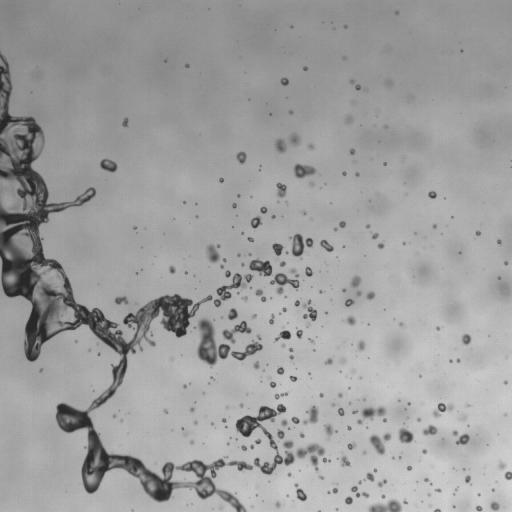droplet: (288, 233, 313, 259), (368, 431, 392, 455), (205, 243, 226, 263), (301, 405, 319, 425), (398, 422, 415, 443), (293, 163, 316, 178), (323, 423, 338, 440), (336, 451, 351, 467), (100, 158, 117, 172), (319, 239, 333, 252), (274, 138, 286, 153), (422, 424, 438, 435), (275, 182, 286, 197), (288, 133, 300, 146), (250, 215, 262, 228), (456, 433, 469, 445), (342, 315, 356, 326), (227, 308, 238, 320), (236, 151, 246, 164), (356, 339, 366, 352), (460, 334, 471, 345), (7, 67, 18, 78), (284, 174, 295, 185), (9, 178, 20, 189), (74, 185, 85, 196), (281, 239, 292, 250), (197, 250, 208, 261), (280, 250, 291, 261), (268, 255, 279, 266), (298, 275, 309, 286), (358, 281, 369, 292), (238, 284, 249, 295), (73, 293, 84, 304), (139, 294, 150, 305), (272, 295, 283, 306), (354, 295, 365, 306), (221, 299, 232, 310), (21, 301, 32, 312), (264, 301, 275, 312), (118, 304, 129, 315), (111, 312, 122, 323), (187, 315, 198, 326), (295, 317, 306, 328), (224, 319, 235, 330), (78, 323, 89, 334), (271, 323, 282, 334), (191, 329, 202, 340), (16, 330, 27, 341), (121, 330, 132, 341), (213, 333, 224, 344), (240, 333, 251, 344), (40, 340, 51, 351), (233, 341, 244, 352), (15, 344, 26, 355), (110, 352, 121, 363), (102, 374, 113, 385), (276, 374, 287, 385), (96, 383, 107, 394), (324, 390, 335, 401), (74, 400, 85, 411), (452, 400, 463, 411), (407, 406, 418, 417), (343, 412, 354, 423), (423, 414, 434, 425), (330, 416, 341, 427), (313, 419, 324, 430), (303, 422, 314, 433), (410, 425, 421, 436), (251, 427, 262, 438), (343, 431, 354, 442), (315, 435, 326, 446), (293, 438, 304, 449), (253, 445, 264, 456), (235, 450, 246, 461), (116, 467, 127, 478), (129, 476, 140, 487), (212, 476, 223, 487), (360, 480, 371, 491), (209, 493, 220, 504), (369, 494, 380, 505), (360, 497, 371, 508), (455, 412, 467, 421), (295, 326, 303, 339), (490, 501, 500, 511), (366, 290, 375, 300), (377, 478, 387, 487), (498, 459, 506, 470), (344, 115, 353, 124), (278, 306, 287, 315), (347, 441, 356, 450), (8, 108, 17, 117), (299, 136, 308, 145), (284, 141, 293, 150), (29, 160, 38, 169), (259, 213, 268, 222), (37, 222, 46, 231), (245, 226, 254, 235), (216, 247, 225, 256), (42, 249, 51, 258), (271, 264, 280, 273), (240, 266, 249, 275), (297, 273, 306, 282), (346, 288, 355, 297), (15, 294, 24, 303), (345, 306, 354, 315), (117, 322, 126, 331), (101, 343, 110, 352), (341, 363, 350, 372), (272, 373, 281, 382), (336, 398, 345, 407), (274, 412, 283, 421), (372, 413, 381, 422), (430, 417, 439, 426), (227, 418, 236, 427), (261, 418, 270, 427), (92, 422, 101, 431), (79, 426, 88, 435), (390, 431, 399, 440), (244, 435, 253, 444), (274, 437, 283, 446), (381, 439, 390, 448), (366, 443, 375, 452), (129, 449, 138, 458), (344, 449, 353, 458), (203, 456, 212, 465), (276, 462, 285, 471), (373, 472, 382, 481), (489, 492, 498, 501), (146, 496, 155, 505), (305, 266, 313, 276), (344, 298, 354, 306), (280, 77, 289, 85), (384, 79, 393, 87), (428, 190, 436, 199), (338, 356, 346, 365), (337, 407, 345, 416), (279, 418, 288, 426), (344, 496, 353, 504), (274, 500, 283, 508), (465, 475, 472, 485), (224, 505, 235, 511), (341, 505, 352, 511), (399, 505, 410, 511), (370, 231, 378, 239), (324, 357, 332, 365), (276, 366, 284, 374), (291, 416, 299, 424), (377, 240, 384, 249), (168, 265, 175, 274), (289, 375, 298, 382), (504, 471, 511, 480), (122, 117, 128, 127), (240, 444, 248, 451), (253, 360, 259, 369), (307, 143, 314, 150), (260, 206, 267, 213), (224, 270, 231, 277), (398, 321, 405, 328), (7, 65, 14, 72), (34, 117, 41, 124), (296, 129, 303, 136), (283, 138, 290, 145), (270, 146, 277, 153), (299, 159, 306, 166), (288, 168, 295, 175), (102, 169, 109, 176), (346, 170, 353, 177), (41, 174, 48, 181), (303, 174, 310, 181), (45, 183, 52, 190), (429, 184, 436, 191), (68, 194, 75, 201), (370, 225, 377, 232), (375, 236, 382, 243), (312, 239, 319, 246), (278, 253, 285, 260), (279, 266, 286, 273), (298, 268, 305, 275), (251, 269, 258, 276), (286, 272, 293, 279), (225, 277, 232, 284), (343, 281, 350, 288), (283, 282, 290, 289), (229, 287, 236, 294), (179, 291, 186, 298), (152, 292, 159, 299), (212, 292, 219, 299), (287, 303, 294, 310), (315, 311, 322, 318), (103, 312, 110, 319), (352, 312, 359, 319), (354, 315, 361, 322), (233, 317, 240, 324), (353, 321, 360, 328), (289, 329, 296, 336), (168, 330, 175, 337), (232, 331, 239, 338), (139, 338, 146, 345), (229, 344, 236, 351), (360, 349, 367, 356), (125, 351, 132, 358), (19, 352, 26, 359), (201, 360, 208, 367), (282, 370, 289, 377), (115, 386, 122, 393), (273, 386, 280, 393), (341, 388, 348, 395), (92, 391, 99, 398), (277, 397, 284, 404), (363, 401, 370, 408), (270, 402, 277, 409), (371, 402, 378, 409), (50, 407, 57, 414), (343, 407, 350, 414), (463, 407, 470, 414), (250, 410, 257, 417), (87, 411, 94, 418), (355, 411, 362, 418), (189, 412, 196, 419), (303, 412, 310, 419), (316, 412, 323, 419), (363, 416, 370, 423), (50, 418, 57, 425), (286, 419, 293, 426), (406, 425, 413, 432), (319, 428, 326, 435), (59, 429, 66, 436), (366, 429, 373, 436), (376, 431, 383, 438), (271, 433, 278, 440), (283, 433, 290, 440), (261, 435, 268, 442), (318, 440, 325, 447), (401, 441, 408, 448), (289, 446, 296, 453), (105, 447, 112, 454), (81, 448, 88, 455), (118, 448, 125, 455), (304, 452, 311, 459), (293, 456, 300, 463), (246, 458, 253, 465), (173, 459, 180, 466), (252, 465, 259, 472), (215, 467, 222, 474), (103, 470, 110, 477), (157, 471, 164, 478), (75, 472, 82, 479), (288, 476, 295, 483), (136, 484, 143, 491), (427, 485, 434, 492), (170, 488, 177, 495), (189, 488, 196, 495), (290, 491, 297, 498), (348, 491, 355, 498), (211, 492, 218, 499), (277, 494, 284, 501), (396, 496, 403, 503), (423, 496, 430, 503), (238, 497, 245, 504), (381, 498, 388, 505), (160, 499, 167, 506), (497, 499, 504, 506), (218, 503, 224, 511), (244, 506, 253, 511), (482, 506, 491, 511), (349, 148, 355, 155), (339, 221, 345, 228), (250, 313, 257, 319), (305, 320, 311, 327), (452, 429, 458, 436), (475, 505, 482, 511), (291, 499, 296, 507), (355, 84, 361, 90), (308, 181, 314, 187), (475, 230, 481, 236), (241, 296, 247, 302), (255, 334, 261, 340), (299, 431, 305, 437), (0, 176, 4, 185), (247, 237, 254, 242), (496, 238, 501, 245), (330, 402, 337, 407), (189, 438, 194, 445), (349, 79, 355, 84), (301, 209, 306, 215), (288, 347, 294, 352), (169, 356, 175, 361), (337, 392, 342, 398), (238, 402, 243, 408), (163, 408, 168, 414), (192, 420, 198, 425), (422, 448, 427, 454), (406, 465, 412, 470), (286, 472, 292, 477), (318, 289, 325, 293), (464, 403, 471, 407), (347, 424, 351, 431), (434, 488, 441, 492), (507, 377, 511, 384), (507, 465, 511, 472), (229, 507, 236, 511), (273, 507, 280, 511), (394, 10, 399, 15), (280, 342, 285, 347), (289, 355, 294, 360), (189, 407, 194, 412), (416, 417, 421, 422), (424, 477, 429, 482), (1, 51, 6, 56), (6, 58, 11, 63), (354, 79, 359, 84), (10, 80, 15, 85), (359, 82, 364, 87), (350, 83, 355, 88), (282, 84, 287, 89), (8, 95, 13, 100), (118, 117, 123, 122), (43, 141, 48, 146), (349, 143, 354, 148), (241, 147, 246, 152), (234, 148, 239, 153), (354, 149, 359, 154), (231, 153, 236, 158), (349, 154, 354, 159), (110, 156, 115, 161), (244, 157, 249, 162), (234, 159, 239, 164), (95, 162, 100, 167), (115, 166, 120, 171), (111, 170, 116, 175), (280, 179, 285, 184), (273, 186, 278, 191), (285, 186, 290, 191), (427, 186, 432, 191), (94, 187, 99, 192), (94, 191, 99, 196), (15, 194, 20, 199), (278, 196, 283, 201), (89, 197, 94, 202), (45, 198, 50, 203), (234, 198, 239, 203), (82, 201, 87, 206), (57, 210, 62, 215), (265, 210, 270, 215), (47, 212, 52, 217), (338, 216, 343, 221), (334, 222, 339, 227), (344, 223, 349, 228), (247, 224, 252, 229), (256, 224, 261, 229), (337, 226, 342, 231), (289, 231, 294, 236), (475, 235, 480, 240), (40, 239, 45, 244), (276, 239, 281, 244), (327, 239, 332, 244), (383, 242, 388, 247), (320, 247, 325, 252), (376, 247, 381, 252), (380, 247, 385, 252), (280, 248, 285, 253), (287, 249, 292, 254), (328, 250, 333, 255), (250, 255, 255, 260), (294, 255, 299, 260), (260, 257, 265, 262), (56, 258, 61, 263), (217, 258, 222, 263), (268, 260, 273, 265), (244, 262, 249, 267), (174, 266, 179, 271), (164, 267, 169, 272), (220, 268, 225, 273), (356, 271, 361, 276), (229, 272, 234, 277), (269, 274, 274, 279), (68, 278, 73, 283), (248, 280, 253, 285), (217, 282, 222, 287), (273, 282, 278, 287), (250, 288, 255, 293), (373, 289, 378, 294), (168, 291, 173, 296), (261, 291, 266, 296), (361, 291, 366, 296), (118, 292, 123, 297), (202, 292, 207, 297), (110, 295, 115, 300), (255, 295, 260, 300), (126, 296, 131, 301), (265, 297, 270, 302), (370, 297, 375, 302), (191, 299, 196, 304), (208, 299, 213, 304), (298, 299, 303, 304), (119, 301, 124, 306), (112, 302, 117, 307), (138, 302, 143, 307), (198, 303, 203, 308), (87, 306, 92, 311), (235, 308, 240, 313), (131, 309, 136, 314), (122, 311, 127, 316), (273, 312, 278, 317), (223, 314, 228, 319), (342, 314, 347, 319), (187, 316, 192, 321), (306, 316, 311, 321), (400, 317, 405, 322), (394, 318, 399, 323), (310, 320, 315, 325), (246, 322, 251, 327), (344, 322, 349, 327), (185, 325, 190, 330), (283, 325, 288, 330), (65, 329, 70, 334), (59, 330, 64, 335), (466, 330, 471, 335), (145, 331, 150, 336), (242, 331, 247, 336), (180, 334, 185, 339), (457, 335, 462, 340), (150, 336, 155, 341), (253, 337, 258, 342), (279, 337, 284, 342), (469, 338, 474, 343), (224, 339, 229, 344), (257, 339, 262, 344), (309, 343, 314, 348), (352, 343, 357, 348), (133, 344, 138, 349), (363, 344, 368, 349), (283, 346, 288, 351), (240, 347, 245, 352), (255, 349, 260, 354), (226, 352, 231, 357), (37, 353, 42, 358), (245, 354, 250, 359), (322, 356, 327, 361), (451, 356, 456, 361), (232, 357, 237, 362), (331, 358, 336, 363), (25, 359, 30, 364), (32, 359, 37, 364), (29, 360, 34, 365), (258, 362, 263, 367), (325, 363, 330, 368), (338, 364, 343, 369), (125, 366, 130, 371), (256, 367, 261, 372), (261, 371, 266, 376), (352, 373, 357, 378), (265, 379, 270, 384), (337, 387, 342, 392), (332, 392, 337, 397), (111, 393, 116, 398), (341, 394, 346, 399), (106, 397, 111, 402), (261, 401, 266, 406), (282, 401, 287, 406), (190, 402, 195, 407), (99, 403, 104, 408), (305, 405, 310, 410), (193, 408, 198, 413), (443, 409, 448, 414), (383, 413, 388, 418), (236, 414, 241, 419), (114, 416, 119, 421), (298, 416, 303, 421), (219, 421, 224, 426), (297, 421, 302, 426), (306, 421, 311, 426), (192, 424, 197, 429), (279, 425, 284, 430), (331, 425, 336, 430), (451, 425, 456, 430), (447, 430, 452, 435), (236, 431, 241, 436), (457, 431, 462, 436), (331, 432, 336, 437), (426, 433, 431, 438), (185, 435, 190, 440), (454, 435, 459, 440), (468, 435, 473, 440), (229, 438, 234, 443), (408, 440, 413, 445), (466, 440, 471, 445), (457, 442, 462, 447), (245, 443, 250, 448), (253, 443, 258, 448), (423, 444, 428, 449), (426, 448, 431, 453), (322, 452, 327, 457), (281, 453, 286, 458), (337, 453, 342, 458), (195, 455, 200, 460), (317, 455, 322, 460), (188, 456, 193, 461), (212, 456, 217, 461), (346, 456, 351, 461), (165, 457, 170, 462), (501, 457, 506, 462), (223, 458, 228, 463), (268, 459, 273, 464), (336, 459, 341, 464), (258, 460, 263, 465), (494, 460, 499, 465), (159, 461, 164, 466), (288, 462, 293, 467), (275, 463, 280, 468), (232, 464, 237, 469), (309, 464, 314, 469), (343, 465, 348, 470), (502, 467, 507, 472), (271, 469, 276, 474), (462, 471, 467, 476), (372, 472, 377, 477), (263, 473, 268, 478), (361, 473, 366, 478), (460, 475, 465, 480), (500, 475, 505, 480), (211, 477, 216, 482), (418, 477, 423, 482), (365, 478, 370, 483), (353, 481, 358, 486), (381, 483, 386, 488), (433, 483, 438, 488), (79, 484, 84, 489), (336, 485, 341, 490), (291, 486, 296, 491), (356, 487, 361, 492), (302, 488, 307, 493), (364, 488, 369, 493), (229, 489, 234, 494), (92, 490, 97, 495), (359, 494, 364, 499), (196, 496, 201, 501), (205, 496, 210, 501), (305, 496, 310, 501), (340, 499, 345, 504), (270, 503, 275, 508), (346, 503, 351, 508), (279, 504, 284, 509), (432, 504, 437, 509), (302, 66, 308, 70), (219, 177, 223, 183), (232, 202, 236, 208), (220, 263, 224, 269), (0, 285, 3, 292), (342, 56, 347, 60), (184, 63, 189, 67), (288, 110, 293, 114), (383, 124, 388, 128), (271, 214, 275, 219), (365, 224, 370, 228), (432, 224, 437, 228), (436, 326, 440, 331), (456, 358, 460, 363), (503, 380, 507, 385), (343, 24, 347, 28), (342, 171, 346, 175), (355, 172, 359, 176), (133, 225, 137, 229), (333, 227, 337, 231), (402, 241, 406, 245), (247, 252, 251, 256), (504, 261, 508, 265), (342, 288, 346, 292), (134, 302, 138, 306), (449, 359, 453, 363), (39, 368, 43, 372), (307, 372, 311, 376), (418, 374, 422, 378), (319, 393, 323, 397), (112, 414, 116, 418), (362, 450, 366, 454), (381, 494, 385, 498), (428, 503, 432, 507), (241, 262, 244, 267), (398, 455, 401, 460), (477, 492, 480, 497), (508, 260, 511, 265), (508, 478, 511, 483), (214, 508, 219, 511), (450, 508, 455, 511), (489, 508, 494, 511), (496, 508, 501, 511), (237, 193, 240, 197), (195, 214, 198, 218), (285, 250, 288, 254), (184, 270, 187, 274), (497, 276, 501, 279), (74, 339, 77, 343), (97, 352, 100, 356), (261, 369, 265, 372), (358, 376, 362, 379), (202, 391, 205, 395), (362, 398, 366, 401), (397, 398, 400, 402), (348, 401, 351, 405), (407, 402, 411, 405), (504, 412, 507, 416), (405, 416, 409, 419), (210, 422, 214, 425), (391, 456, 395, 459), (462, 467, 465, 471), (491, 488, 494, 492), (427, 493, 431, 496), (452, 504, 455, 508), (335, 507, 338, 511), (0, 258, 2, 263), (290, 25, 293, 28), (460, 49, 463, 52), (383, 162, 386, 165), (241, 231, 244, 234), (414, 232, 417, 235), (458, 251, 461, 254), (135, 272, 138, 275), (249, 286, 252, 289), (284, 295, 287, 298), (324, 311, 327, 314), (220, 316, 223, 319), (88, 348, 91, 351), (347, 386, 350, 389), (120, 419, 123, 422), (365, 426, 368, 429), (229, 436, 232, 439), (226, 442, 229, 445), (429, 482, 432, 485), (255, 493, 258, 496), (286, 494, 289, 497), (288, 22, 291, 25), (292, 23, 295, 26), (290, 27, 293, 30), (341, 27, 344, 30), (457, 47, 460, 50), (462, 47, 465, 50), (457, 50, 460, 53), (461, 51, 464, 54), (162, 56, 165, 59), (166, 58, 169, 61), (186, 60, 189, 63), (181, 63, 184, 66), (188, 63, 191, 66), (304, 63, 307, 66), (185, 67, 188, 70), (303, 70, 306, 73), (287, 77, 290, 80), (356, 89, 359, 92), (290, 107, 293, 110), (265, 112, 268, 115), (271, 112, 274, 115), (286, 112, 289, 115), (268, 115, 271, 118), (126, 121, 129, 124), (123, 126, 126, 129), (313, 144, 316, 147), (346, 150, 349, 153), (383, 158, 386, 161), (257, 161, 260, 164), (380, 162, 383, 165), (386, 162, 389, 165), (256, 165, 259, 168), (383, 165, 386, 168), (259, 166, 262, 169), (341, 168, 344, 171), (356, 169, 359, 172), (352, 171, 355, 174), (359, 172, 362, 175), (340, 174, 343, 177), (216, 176, 219, 179), (222, 180, 225, 183), (217, 181, 220, 184), (321, 183, 324, 186), (90, 184, 93, 187), (86, 185, 89, 188), (239, 192, 242, 195), (425, 192, 428, 195), (233, 193, 236, 196), (435, 194, 438, 197), (239, 195, 242, 198), (445, 196, 448, 199), (183, 197, 186, 200), (431, 197, 434, 200), (196, 200, 199, 203), (179, 201, 182, 204), (191, 201, 194, 204), (183, 203, 186, 206), (259, 204, 262, 207), (264, 204, 267, 207), (229, 205, 232, 208), (234, 207, 237, 210), (450, 212, 453, 215), (274, 213, 277, 216), (198, 214, 201, 217), (303, 214, 306, 217), (192, 215, 195, 218), (273, 217, 276, 220), (450, 218, 453, 221), (432, 220, 435, 223), (363, 222, 366, 225), (135, 223, 138, 226), (130, 224, 133, 227), (233, 224, 236, 227), (429, 224, 432, 227), (436, 224, 439, 227), (228, 225, 231, 228), (367, 227, 370, 230), (134, 228, 137, 231), (413, 228, 416, 231), (478, 228, 481, 231), (331, 229, 334, 232), (237, 231, 240, 234), (472, 231, 475, 234), (369, 233, 372, 236), (479, 233, 482, 236), (248, 234, 251, 237), (310, 236, 313, 239), (402, 238, 405, 241), (245, 239, 248, 242), (253, 239, 256, 242), (500, 239, 503, 242), (493, 240, 496, 243), (249, 241, 252, 244), (342, 241, 345, 244), (399, 242, 402, 245), (405, 242, 408, 245), (219, 243, 222, 246), (496, 243, 499, 246), (342, 247, 345, 250), (456, 248, 459, 251), (459, 248, 462, 251), (247, 249, 250, 252), (244, 251, 247, 254), (233, 252, 236, 255), (240, 252, 243, 255), (457, 253, 460, 256), (225, 257, 228, 260), (500, 261, 503, 264), (505, 264, 508, 267), (309, 265, 312, 268), (142, 267, 145, 270), (137, 270, 140, 273), (181, 270, 184, 273), (132, 271, 135, 274), (187, 271, 190, 274), (304, 274, 307, 277), (307, 275, 310, 278), (494, 276, 497, 279), (500, 276, 503, 279), (497, 279, 500, 282), (298, 282, 301, 285), (341, 285, 344, 288), (297, 286, 300, 289), (292, 287, 295, 290), (321, 288, 324, 291), (315, 289, 318, 292), (320, 292, 323, 295), (345, 296, 348, 299), (292, 299, 295, 302), (342, 299, 345, 302), (304, 300, 307, 303), (262, 301, 265, 304), (349, 304, 352, 307), (217, 305, 220, 308), (344, 305, 347, 308), (312, 306, 315, 309), (380, 308, 383, 311), (251, 311, 254, 314), (327, 311, 330, 314), (255, 315, 258, 318), (300, 316, 303, 319), (368, 320, 371, 323), (266, 321, 269, 324), (364, 321, 367, 324), (438, 324, 441, 327), (366, 325, 369, 328), (297, 326, 300, 329), (439, 327, 442, 330), (280, 328, 283, 331), (433, 328, 436, 331), (250, 329, 253, 332), (259, 334, 262, 337), (310, 336, 313, 339), (271, 337, 274, 340), (306, 339, 309, 342), (71, 340, 74, 343), (76, 341, 79, 344), (84, 348, 87, 351), (315, 348, 318, 351), (87, 351, 90, 354), (94, 351, 97, 354), (289, 351, 292, 354), (312, 351, 315, 354), (364, 356, 367, 359), (287, 357, 290, 360), (459, 357, 462, 360), (291, 358, 294, 361), (446, 360, 449, 363), (274, 366, 277, 369), (282, 366, 285, 369), (41, 369, 44, 372), (308, 369, 311, 372), (304, 371, 307, 374), (336, 371, 339, 374), (419, 371, 422, 374), (277, 373, 280, 376), (292, 373, 295, 376), (309, 373, 312, 376), (212, 374, 215, 377), (347, 374, 350, 377), (415, 374, 418, 377), (421, 375, 424, 378), (260, 377, 263, 380), (503, 377, 506, 380), (209, 378, 212, 381), (295, 379, 298, 382), (500, 380, 503, 383), (204, 381, 207, 384), (190, 382, 193, 385), (506, 382, 509, 385), (346, 383, 349, 386), (501, 383, 504, 386), (267, 384, 270, 387), (180, 386, 183, 389), (344, 386, 347, 389), (350, 386, 353, 389), (347, 389, 350, 392), (320, 390, 323, 393), (277, 391, 280, 394), (287, 392, 290, 395), (316, 393, 319, 396), (322, 393, 325, 396), (319, 396, 322, 399), (399, 396, 402, 399), (407, 398, 410, 401), (396, 401, 399, 404), (468, 401, 471, 404), (410, 402, 413, 405), (339, 404, 342, 407), (405, 404, 408, 407), (434, 404, 437, 407), (336, 405, 339, 408), (187, 406, 190, 409), (467, 406, 470, 409), (342, 407, 345, 410), (353, 407, 356, 410), (167, 409, 170, 412), (458, 410, 461, 413), (162, 412, 165, 415), (336, 413, 339, 416), (109, 414, 112, 417), (218, 417, 221, 420), (386, 418, 389, 421), (197, 420, 200, 423), (383, 421, 386, 424), (464, 421, 467, 424), (207, 422, 210, 425), (358, 423, 361, 426), (211, 424, 214, 427), (344, 425, 347, 428), (350, 425, 353, 428), (183, 426, 186, 429), (223, 427, 226, 430), (178, 428, 181, 431), (350, 428, 353, 431), (302, 431, 305, 434), (296, 433, 299, 436), (193, 439, 196, 442), (347, 440, 350, 443), (223, 441, 226, 444), (252, 441, 255, 444), (453, 442, 456, 445), (191, 443, 194, 446), (344, 445, 347, 448), (238, 447, 241, 450), (351, 447, 354, 450), (419, 448, 422, 451), (420, 452, 423, 455), (400, 453, 403, 456), (326, 456, 329, 459), (395, 456, 398, 459), (330, 458, 333, 461), (390, 458, 393, 461), (407, 462, 410, 465), (404, 464, 407, 467), (461, 464, 464, 467), (454, 466, 457, 469), (464, 466, 467, 469), (376, 468, 379, 471), (404, 468, 407, 471), (459, 468, 462, 471), (408, 469, 411, 472), (452, 469, 455, 472), (290, 472, 293, 475), (285, 475, 288, 478), (289, 475, 292, 478), (422, 475, 425, 478), (318, 478, 321, 481), (386, 479, 389, 482), (293, 480, 296, 483), (426, 481, 429, 484), (333, 484, 336, 487), (453, 484, 456, 487), (297, 485, 300, 488), (185, 487, 188, 490), (457, 487, 460, 490), (488, 488, 491, 491), (494, 488, 497, 491), (324, 489, 327, 492), (451, 489, 454, 492), (476, 489, 479, 492), (336, 490, 339, 493), (434, 490, 437, 493), (380, 491, 383, 494), (454, 491, 457, 494), (479, 491, 482, 494), (252, 492, 255, 495), (257, 492, 260, 495), (283, 492, 286, 495), (450, 494, 453, 497), (474, 494, 477, 497), (479, 494, 482, 497), (256, 495, 259, 498), (425, 495, 428, 498), (297, 498, 300, 501), (272, 500, 275, 503), (187, 502, 190, 505), (476, 502, 479, 505), (454, 503, 457, 506), (479, 503, 482, 506), (449, 504, 452, 507), (315, 507, 318, 510), (319, 507, 322, 510), (495, 479, 497, 483), (317, 509, 321, 511), (332, 27, 335, 29), (164, 59, 166, 62), (250, 195, 252, 198), (277, 200, 279, 203), (195, 202, 197, 205), (329, 202, 332, 204), (310, 218, 313, 220), (232, 225, 234, 228), (342, 245, 345, 247), (193, 274, 195, 277), (270, 296, 272, 299), (286, 321, 289, 323), (367, 323, 370, 325), (312, 349, 315, 351), (180, 353, 182, 356), (505, 356, 507, 359), (339, 370, 341, 373), (92, 389, 95, 391), (246, 392, 248, 395), (467, 424, 469, 427), (235, 438, 238, 440), (250, 505, 253, 507), (509, 156, 511, 159), (509, 161, 511, 164), (509, 167, 511, 170), (128, 509, 131, 511), (133, 509, 136, 511), (333, 509, 336, 511), (337, 509, 340, 511), (474, 509, 477, 511), (480, 509, 483, 511), (248, 98, 250, 100), (269, 113, 271, 115), (324, 183, 326, 185), (443, 197, 445, 199), (368, 200, 370, 202), (173, 217, 175, 219), (451, 216, 453, 218), (440, 232, 442, 234), (336, 256, 338, 258), (140, 268, 142, 270), (321, 325, 323, 327), (266, 363, 268, 365), (295, 367, 297, 369), (260, 380, 262, 382), (194, 401, 196, 403), (404, 408, 406, 410), (288, 427, 290, 429), (171, 429, 173, 431), (202, 442, 204, 444), (486, 444, 488, 446), (452, 467, 454, 469), (268, 480, 270, 482), (421, 500, 423, 502), (131, 509, 133, 511), (0, 278, 1, 281), (141, 246, 142, 248), (383, 309, 385, 310), (393, 318, 395, 319), (190, 330, 191, 332), (488, 334, 489, 336), (351, 343, 352, 345), (299, 469, 300, 471), (416, 481, 418, 482), (319, 271, 320, 272), (303, 279, 304, 280), (310, 377, 311, 378), (414, 489, 415, 490)
ligament: (249, 257, 299, 295), (352, 405, 387, 424), (366, 498, 407, 511), (431, 402, 454, 418), (272, 242, 286, 267), (358, 468, 377, 484), (350, 275, 362, 296), (294, 482, 307, 501), (350, 485, 369, 498), (254, 288, 266, 302), (273, 391, 289, 400), (250, 438, 261, 449), (114, 296, 128, 304), (267, 376, 276, 388), (326, 487, 338, 494), (268, 313, 274, 325), (350, 367, 356, 378), (182, 382, 191, 388), (452, 486, 458, 495), (308, 337, 315, 344), (237, 253, 246, 257), (225, 405, 234, 409), (209, 376, 215, 381), (433, 508, 441, 511), (258, 164, 261, 171), (182, 200, 186, 204), (284, 200, 287, 205), (333, 483, 338, 485), (344, 375, 348, 377), (208, 382, 211, 384), (191, 502, 192, 505)
